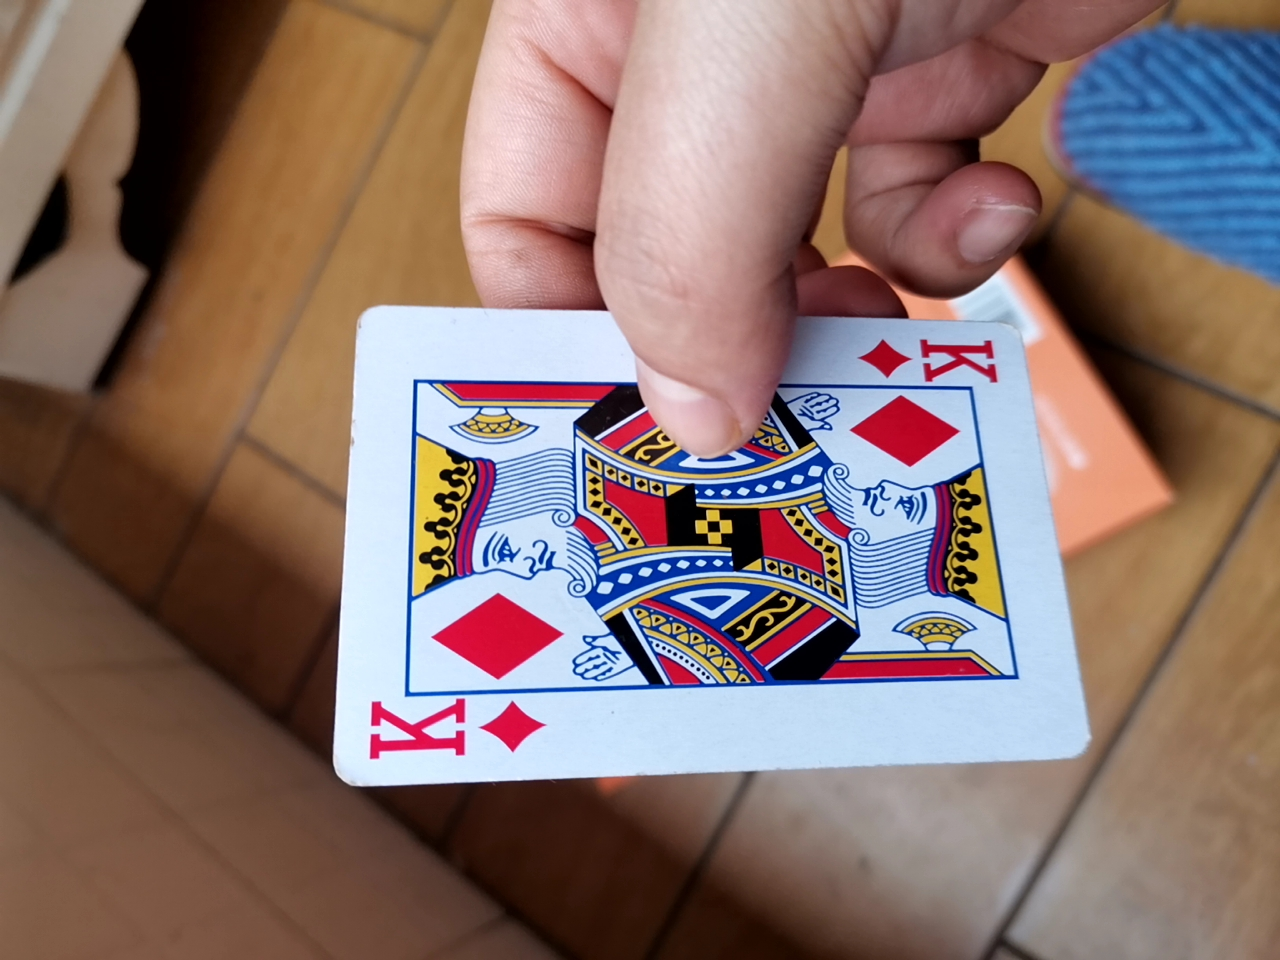fk k: (304, 275, 1085, 806)
